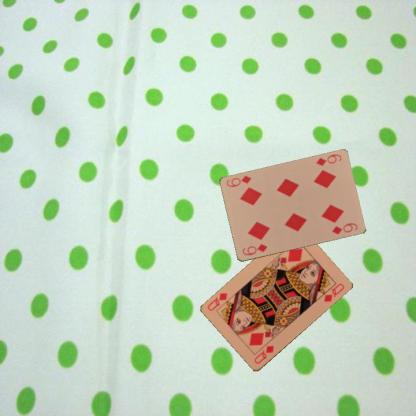6d: (313, 152, 343, 168), (239, 242, 268, 257)
Qd: (251, 343, 275, 365)
